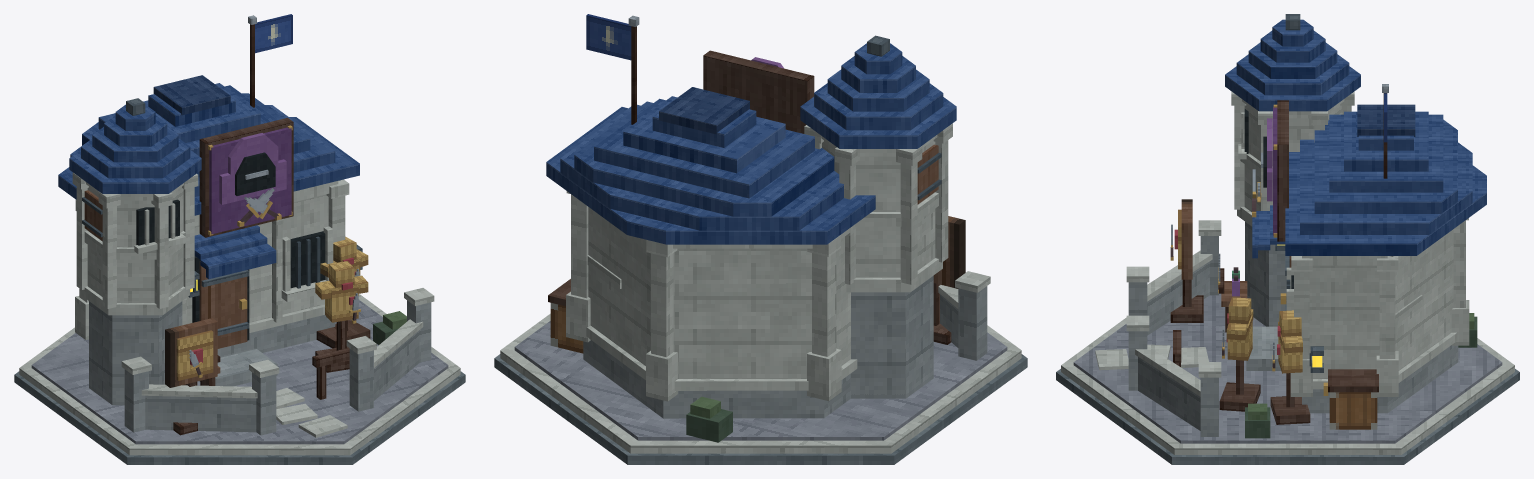
File: rogue_guild_hex_v1.glb
3 views of the same model, side by side, from view 1: azimuth 30°, elevation 25°; view 2: azimuth 150°, elevation 25°; view 3: azimuth 270°, elevation 25° (orthographic). The views are drawn at different scales.
Visible parts, largest first — view 1: Rogue_Guild_Hex_V1_Foundation, Rogue_Guild_Hex_V1_Roofs, Rogue_Guild_Hex_V1_Lookout, Rogue_Guild_Hex_V1_Courtyard, Rogue_Guild_Hex_V1_Hall, Rogue_Guild_Hex_V1_Heraldry, Rogue_Guild_Hex_V1_Training, Rogue_Guild_Hex_V1_Details; view 2: Rogue_Guild_Hex_V1_Hall, Rogue_Guild_Hex_V1_Roofs, Rogue_Guild_Hex_V1_Foundation, Rogue_Guild_Hex_V1_Lookout, Rogue_Guild_Hex_V1_Heraldry, Rogue_Guild_Hex_V1_Courtyard, Rogue_Guild_Hex_V1_Details, Rogue_Guild_Hex_V1_Training; view 3: Rogue_Guild_Hex_V1_Roofs, Rogue_Guild_Hex_V1_Foundation, Rogue_Guild_Hex_V1_Hall, Rogue_Guild_Hex_V1_Courtyard, Rogue_Guild_Hex_V1_Training, Rogue_Guild_Hex_V1_Lookout, Rogue_Guild_Hex_V1_Details, Rogue_Guild_Hex_V1_Heraldry.
Boxes of the visible parts, bbox=[...] form: Rogue_Guild_Hex_V1_Foundation: bbox=[14, 294, 465, 464]; Rogue_Guild_Hex_V1_Roofs: bbox=[58, 75, 359, 279]; Rogue_Guild_Hex_V1_Lookout: bbox=[72, 172, 198, 405]; Rogue_Guild_Hex_V1_Courtyard: bbox=[121, 288, 434, 437]; Rogue_Guild_Hex_V1_Hall: bbox=[75, 179, 349, 357]; Rogue_Guild_Hex_V1_Heraldry: bbox=[199, 14, 293, 237]; Rogue_Guild_Hex_V1_Training: bbox=[165, 236, 370, 435]; Rogue_Guild_Hex_V1_Details: bbox=[188, 244, 406, 344]; Rogue_Guild_Hex_V1_Hall: bbox=[566, 191, 857, 418]; Rogue_Guild_Hex_V1_Roofs: bbox=[546, 35, 956, 244]; Rogue_Guild_Hex_V1_Foundation: bbox=[494, 313, 1027, 464]; Rogue_Guild_Hex_V1_Lookout: bbox=[804, 123, 952, 398]; Rogue_Guild_Hex_V1_Heraldry: bbox=[586, 14, 814, 133]; Rogue_Guild_Hex_V1_Courtyard: bbox=[938, 271, 990, 360]; Rogue_Guild_Hex_V1_Details: bbox=[548, 279, 732, 442]; Rogue_Guild_Hex_V1_Training: bbox=[933, 216, 965, 344]; Rogue_Guild_Hex_V1_Roofs: bbox=[1225, 14, 1486, 258]; Rogue_Guild_Hex_V1_Foundation: bbox=[1056, 293, 1519, 464]; Rogue_Guild_Hex_V1_Hall: bbox=[1280, 218, 1469, 413]; Rogue_Guild_Hex_V1_Courtyard: bbox=[1095, 220, 1281, 436]; Rogue_Guild_Hex_V1_Training: bbox=[1170, 199, 1310, 424]; Rogue_Guild_Hex_V1_Lookout: bbox=[1231, 91, 1354, 326]; Rogue_Guild_Hex_V1_Details: bbox=[1232, 244, 1477, 438]; Rogue_Guild_Hex_V1_Heraldry: bbox=[1252, 84, 1388, 241].
Size of the model in its own units: 1.59 by 1.42 by 1.84.
1 material, 1 textured.
